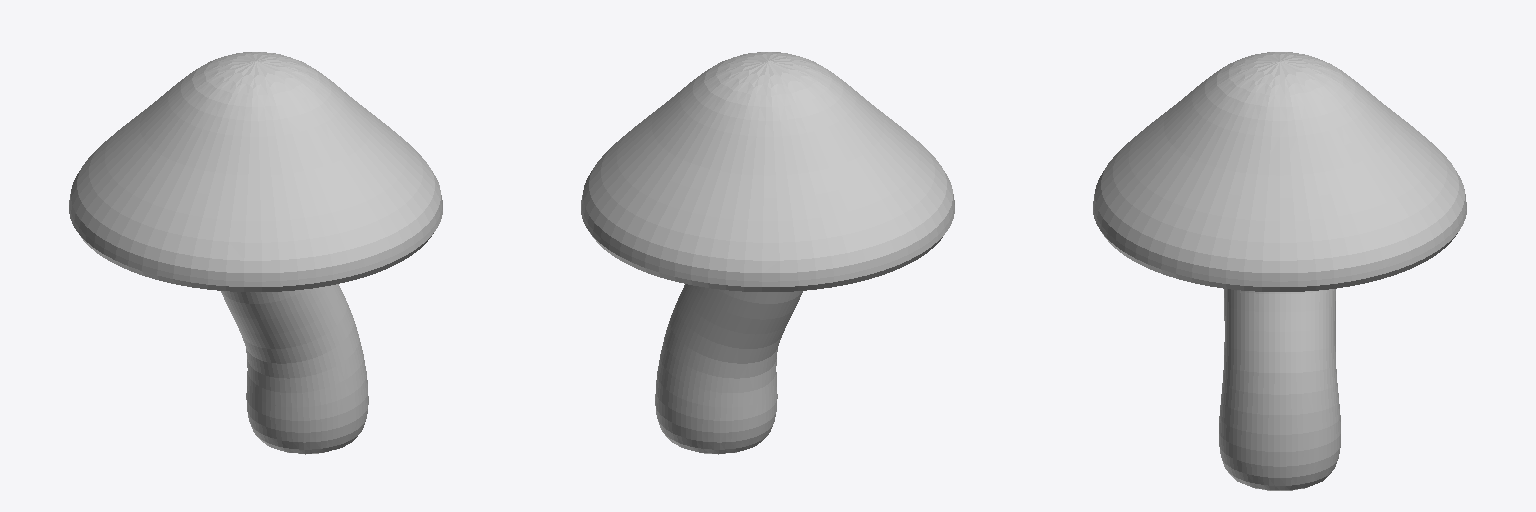
The model's file is shroom.obj.
3 views of the same model, side by side, from view 1: azimuth 30°, elevation 25°; view 2: azimuth 150°, elevation 25°; view 3: azimuth 270°, elevation 25° (orthographic).
Visible parts, largest first — view 1: shroom; view 2: shroom; view 3: shroom.
Boxes of the visible parts, x1,y1,x2,y2 form: shroom: [69, 52, 442, 454]; shroom: [581, 52, 954, 454]; shroom: [1093, 52, 1466, 490].
Bounding box in the file's own units: 0.2552 × 0.2926 × 0.2552.